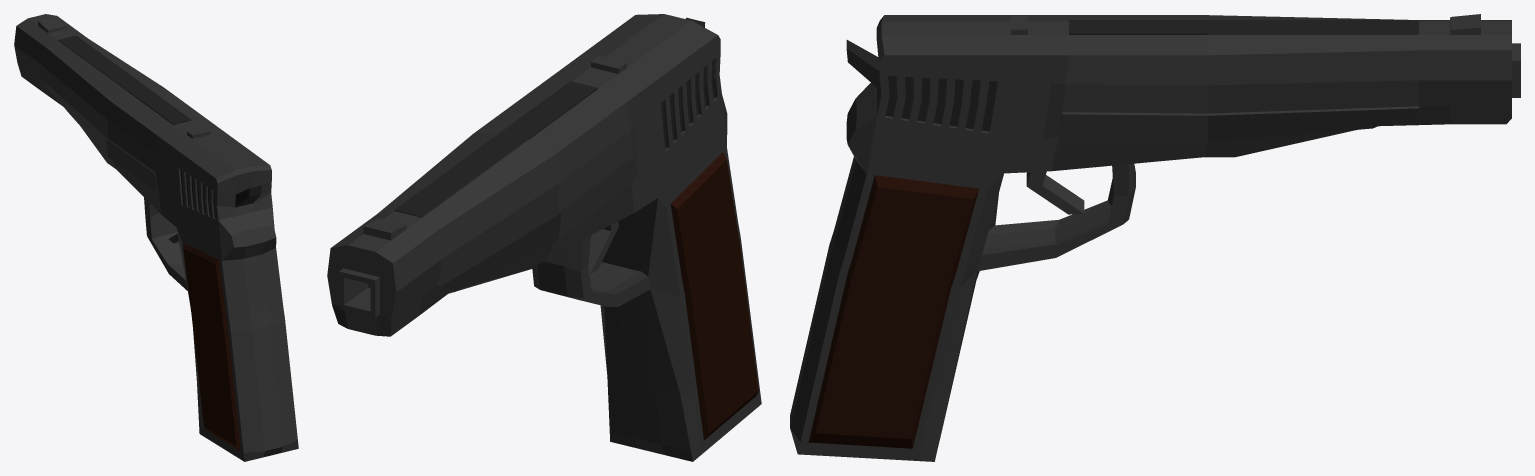
File: colcik.fbx
3 views of the same model, side by side, from view 1: azimuth 30°, elevation 25°; view 2: azimuth 150°, elevation 25°; view 3: azimuth 270°, elevation 25° (orthographic). The views are drawn at different scales.
Parts seen in each view (by area): view 1: Cube; view 2: Cube; view 3: Cube.
Boxes of the visible parts, x1=… form: Cube: x1=14, y1=14, x2=298, y2=461; Cube: x1=327, y1=14, x2=761, y2=461; Cube: x1=790, y1=14, x2=1520, y2=461.
Bounding box in the file's own units: 157 × 1049 × 667.
